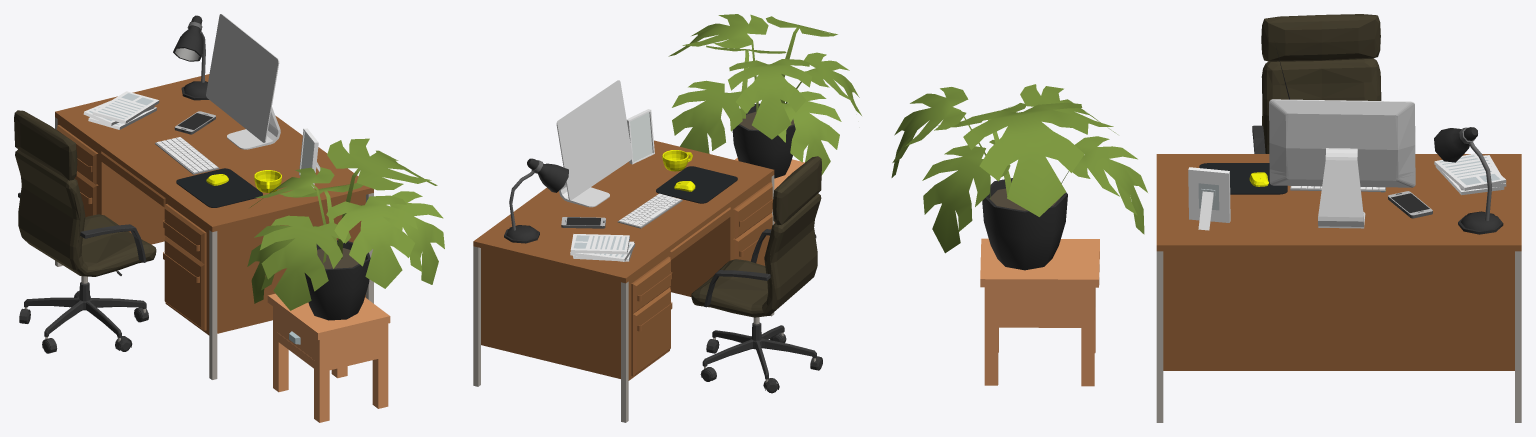
The model's file is office1.gltf.
3 views of the same model, side by side, from view 1: azimuth 30°, elevation 25°; view 2: azimuth 150°, elevation 25°; view 3: azimuth 270°, elevation 25° (orthographic). The views are drawn at different scales.
Parts seen in each view (by area): view 1: Node.003, Houseplant-bfLOqIV5uP, Chair.003, Cabinet Bed Drawer Tabl, Monitor.001|iMac|Dupli|, Mousepad, Paper, Light Desk.001, Screen, Blank Picture Frame|Node.007|Dupli|, Phone, Cup.001|Cup|Dupli|; view 2: Node.003, Houseplant-bfLOqIV5uP, Chair.003, Monitor.001|iMac|Dupli|, Screen, Mousepad, Light Desk.001, Paper, Blank Picture Frame|Node.007|Dupli|, Cup.001|Cup|Dupli|, Phone; view 3: Node.003, Houseplant-bfLOqIV5uP, Monitor.001|iMac|Dupli|, Chair.003, Cabinet Bed Drawer Tabl, Blank Picture Frame|Node.007|Dupli|, Light Desk.001, Paper, Mousepad, Phone.
Part boxes in pixels (x1,y1,x2,y2): Node.003: [55, 74, 373, 379]; Houseplant-bfLOqIV5uP: [247, 138, 444, 320]; Chair.003: [14, 110, 156, 353]; Cabinet Bed Drawer Tabl: [267, 293, 390, 422]; Monitor.001|iMac|Dupli|: [206, 14, 280, 149]; Mousepad: [176, 168, 262, 207]; Paper: [83, 91, 159, 129]; Light Desk.001: [173, 15, 208, 100]; Screen: [211, 21, 274, 121]; Blank Picture Frame|Node.007|Dupli|: [299, 128, 320, 187]; Phone: [174, 111, 215, 134]; Cup.001|Cup|Dupli|: [254, 170, 281, 192]; Node.003: [473, 140, 774, 422]; Houseplant-bfLOqIV5uP: [668, 14, 861, 178]; Chair.003: [691, 156, 822, 393]; Monitor.001|iMac|Dupli|: [556, 80, 632, 207]; Screen: [561, 86, 626, 180]; Mousepad: [656, 166, 737, 203]; Light Desk.001: [504, 158, 568, 243]; Paper: [570, 234, 634, 261]; Blank Picture Frame|Node.007|Dupli|: [626, 109, 654, 164]; Cup.001|Cup|Dupli|: [662, 150, 692, 171]; Phone: [561, 217, 605, 228]; Node.003: [1156, 154, 1521, 422]; Houseplant-bfLOqIV5uP: [891, 84, 1147, 270]; Monitor.001|iMac|Dupli|: [1269, 99, 1415, 228]; Chair.003: [1252, 14, 1381, 153]; Cabinet Bed Drawer Tabl: [980, 238, 1099, 386]; Blank Picture Frame|Node.007|Dupli|: [1188, 167, 1230, 230]; Light Desk.001: [1434, 127, 1503, 234]; Paper: [1434, 153, 1506, 195]; Mousepad: [1199, 163, 1287, 194]; Phone: [1388, 191, 1432, 218].
Bounding box in the file's own units: 1.73 × 1.81 × 2.99.
Materials: 32 (2 with a texture image).
